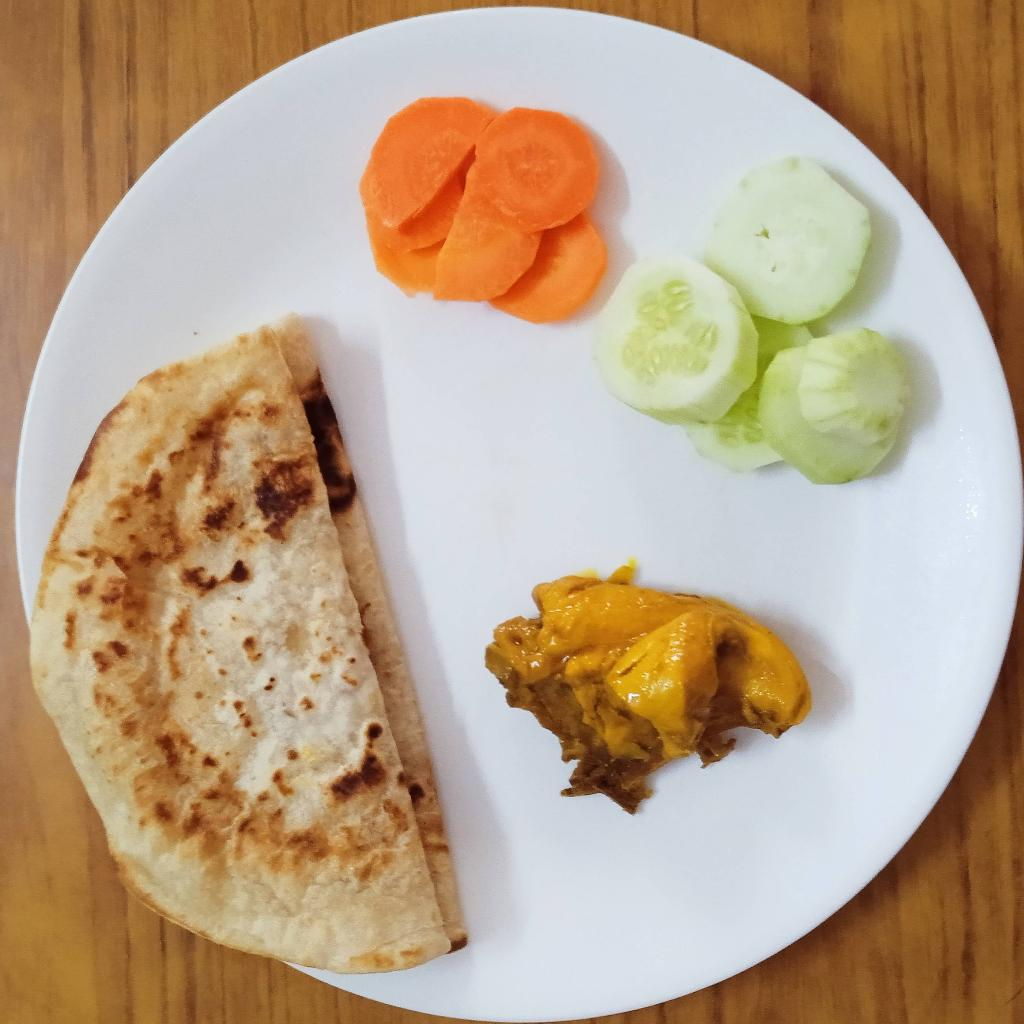carrot: (360, 102, 602, 329)
chicken: (487, 578, 801, 815)
cucumber: (591, 155, 913, 483)
ruti: (36, 312, 466, 973)
